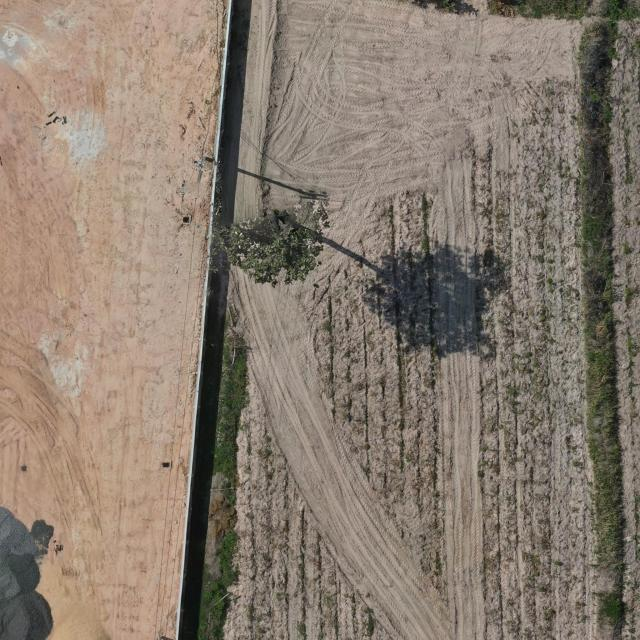tree: (208, 207, 324, 285)
